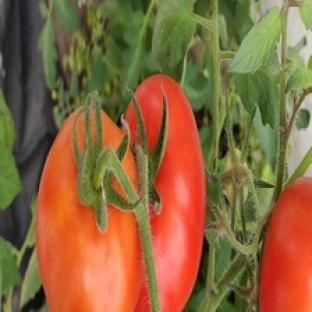Tomato: (37, 112, 142, 311), (136, 76, 206, 311), (260, 179, 311, 311)
